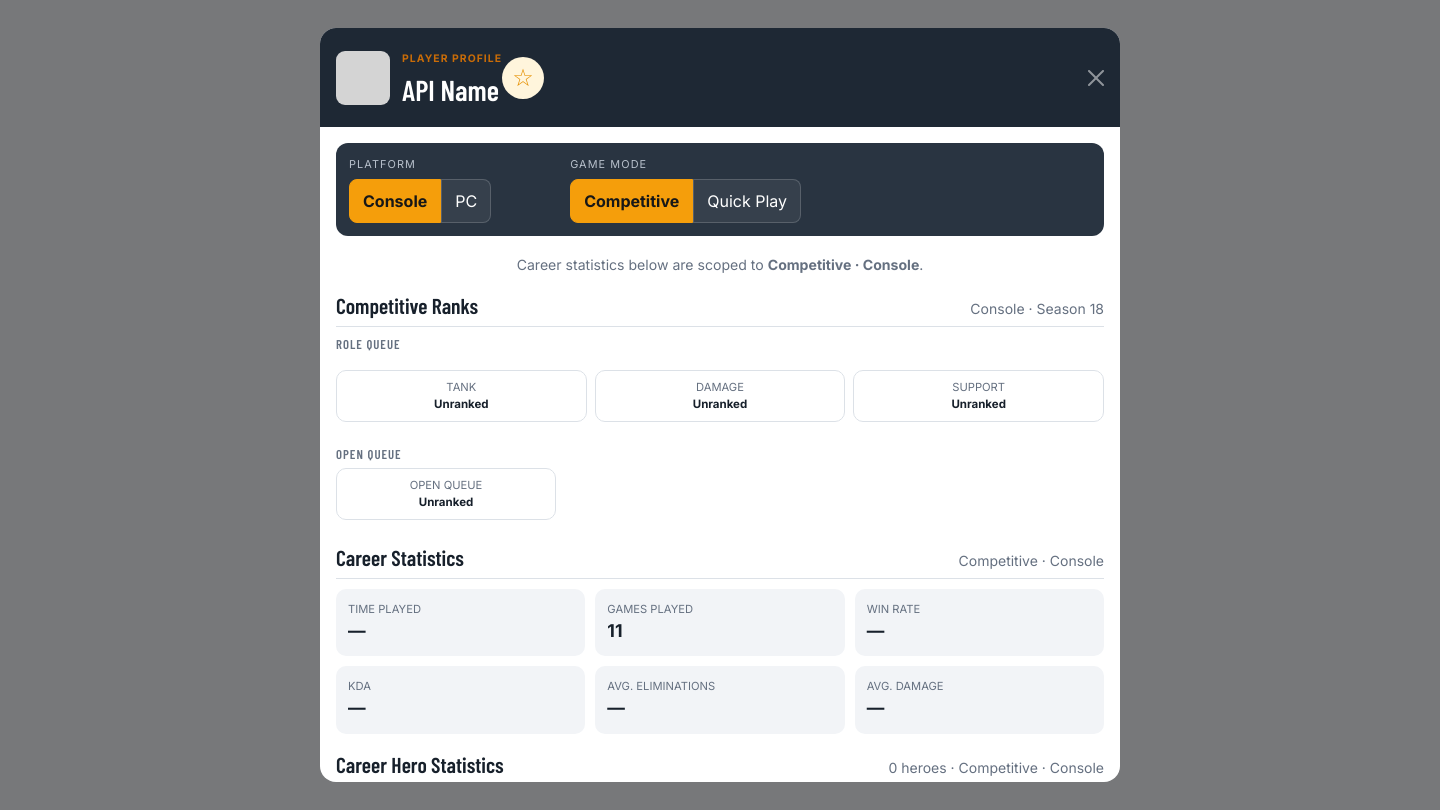
restores initial competitive stats after viewing quick play
Check: the text "11" is shown, box [607,620,622,641]
Step 1. Click the button "Quick Play" → [747, 200], box [693,178,801,222]
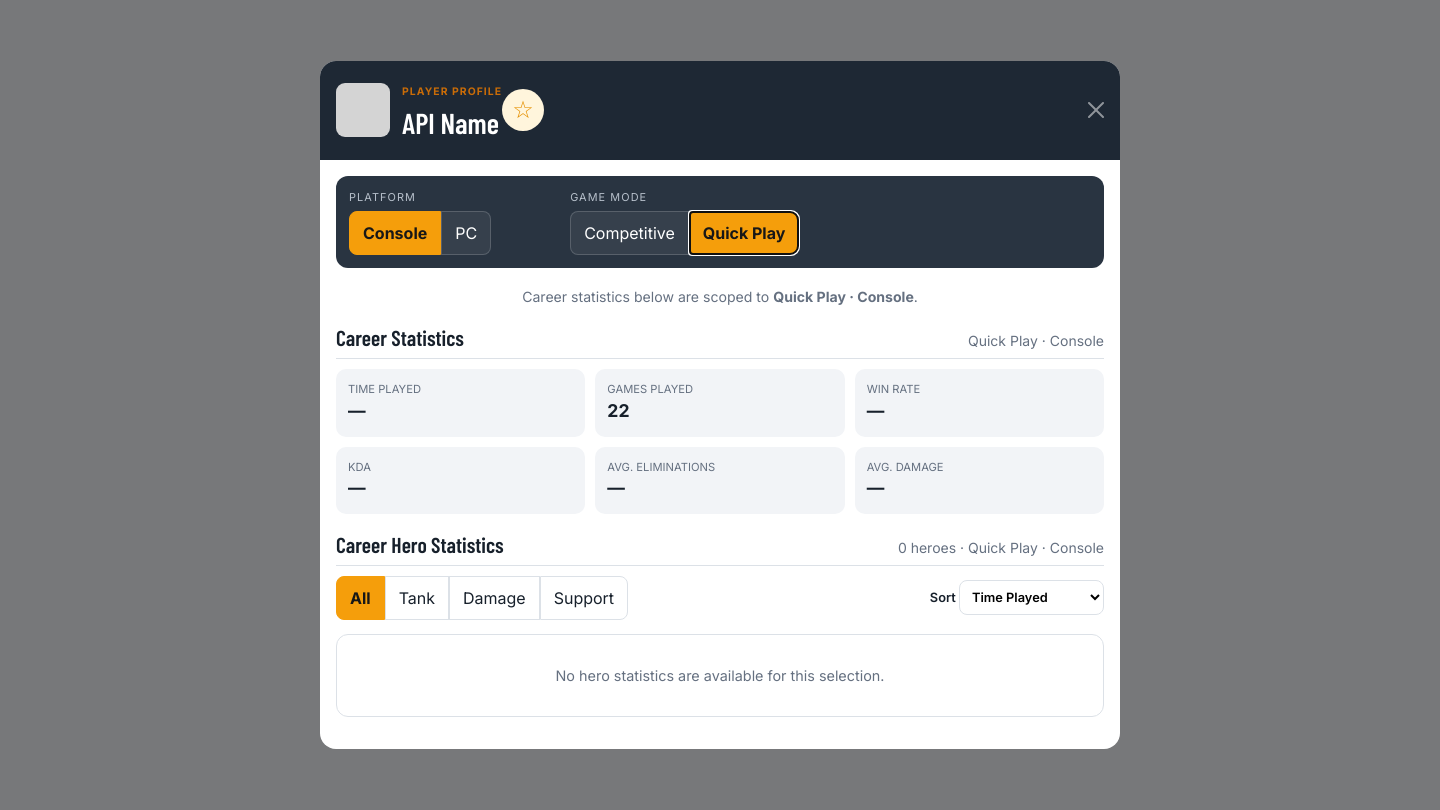
Check: the text "22" is shown, box [607,400,630,421]
Step 2. Click the button "Competitive" → [629, 233], box [570,211,689,255]
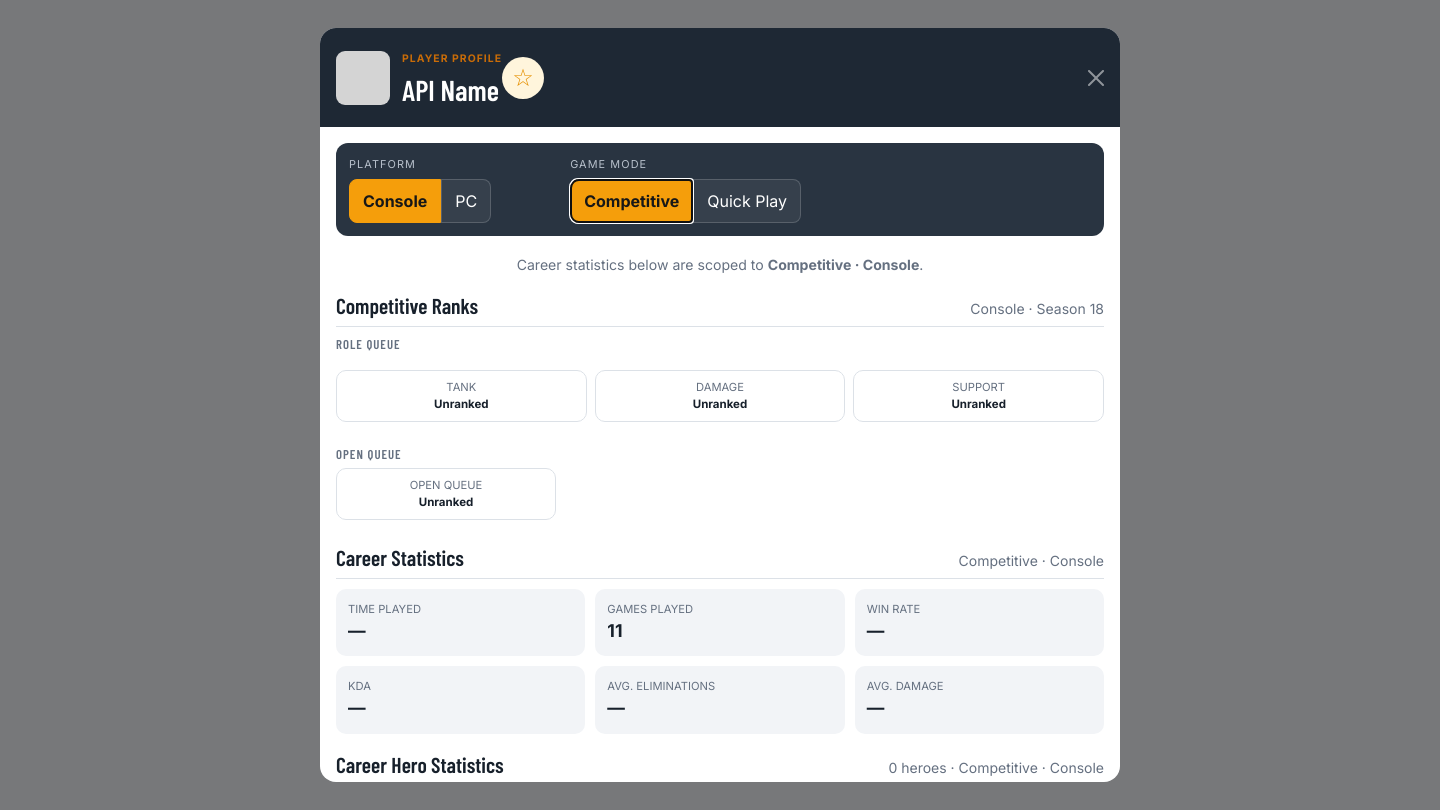
Check: the text "11" is shown, box [607,620,622,641]
